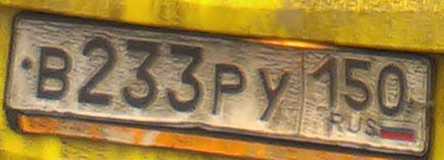character: (167, 45, 206, 116), (122, 40, 163, 107), (79, 36, 116, 105), (35, 42, 73, 101), (211, 62, 249, 120), (373, 56, 408, 116), (255, 67, 290, 124), (339, 56, 373, 114), (312, 54, 341, 114)
